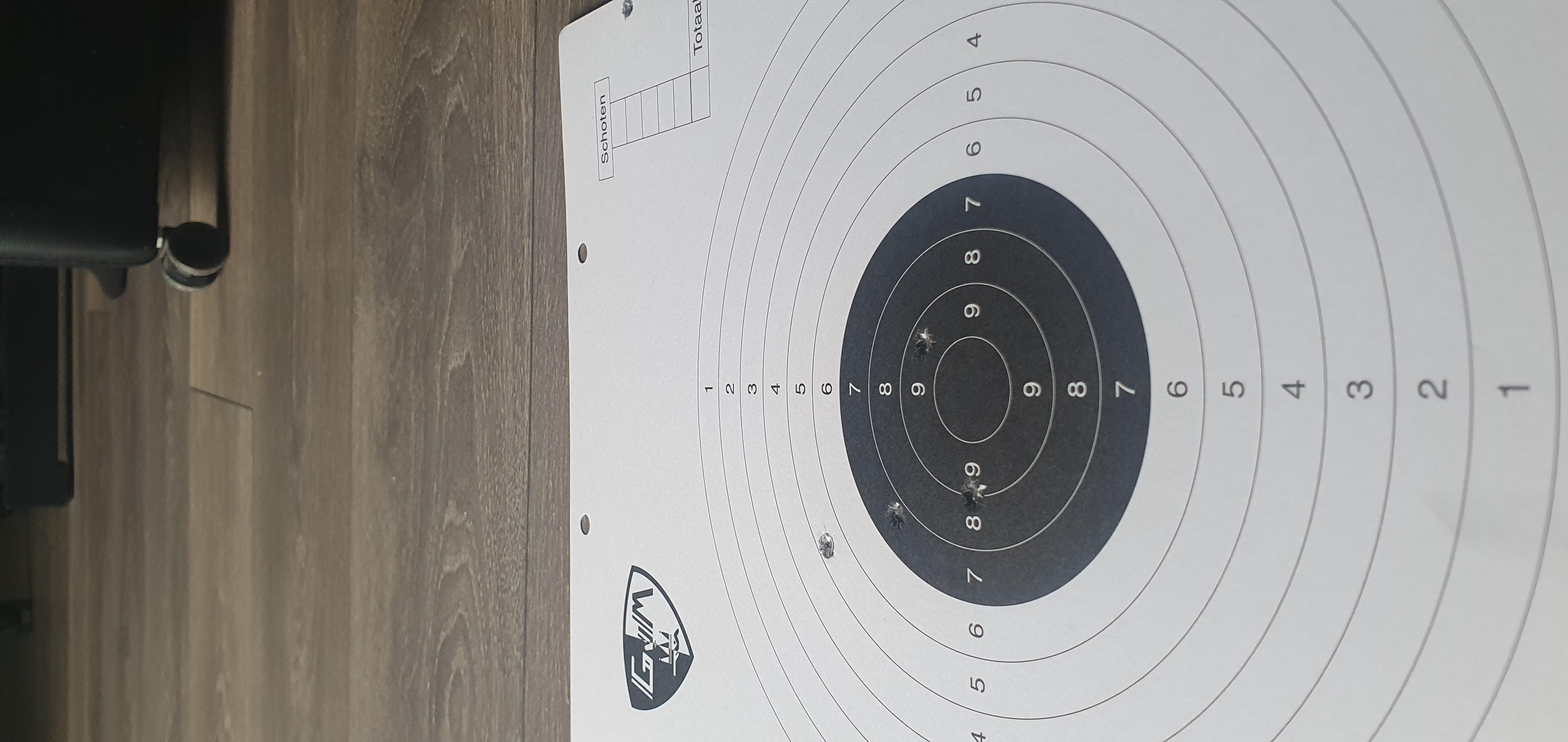hole: (480, 453, 556, 469), (805, 430, 882, 443), (447, 418, 521, 430), (387, 387, 446, 396), (1523, 292, 1568, 302)
